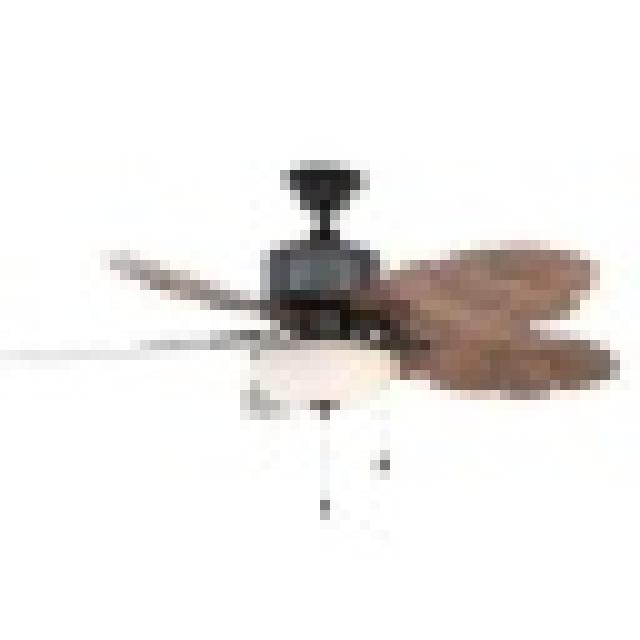Bulb: (49, 222, 640, 460)
